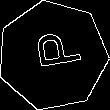P_W: (24, 33, 81, 78)
